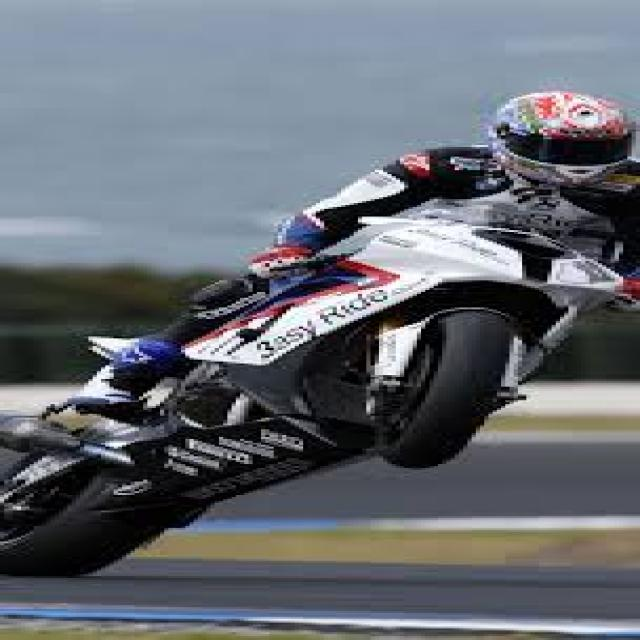Wheeling: (17, 54, 616, 556)
